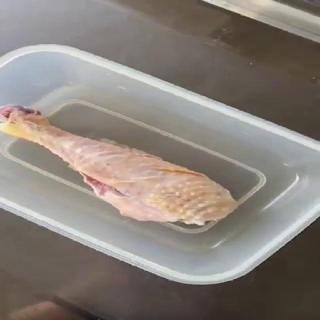Ayam: (1, 103, 239, 227)
